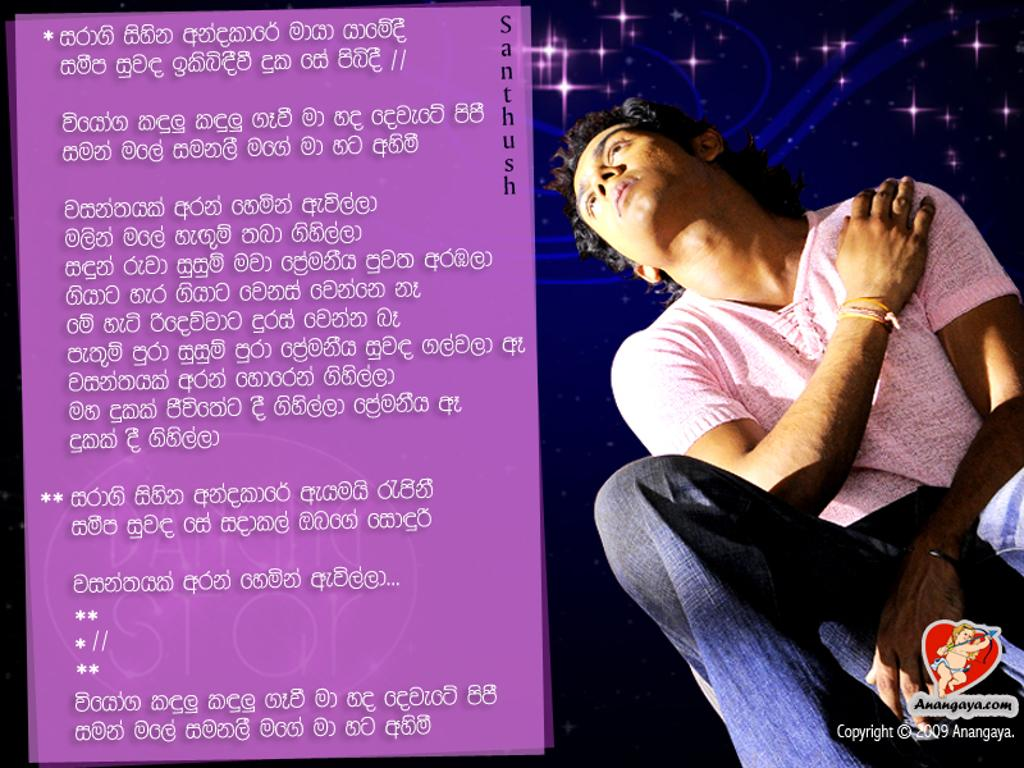face: (572, 112, 670, 232)
